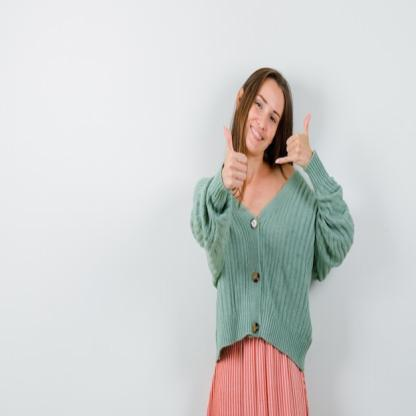thumb_up: (214, 122, 248, 194)
